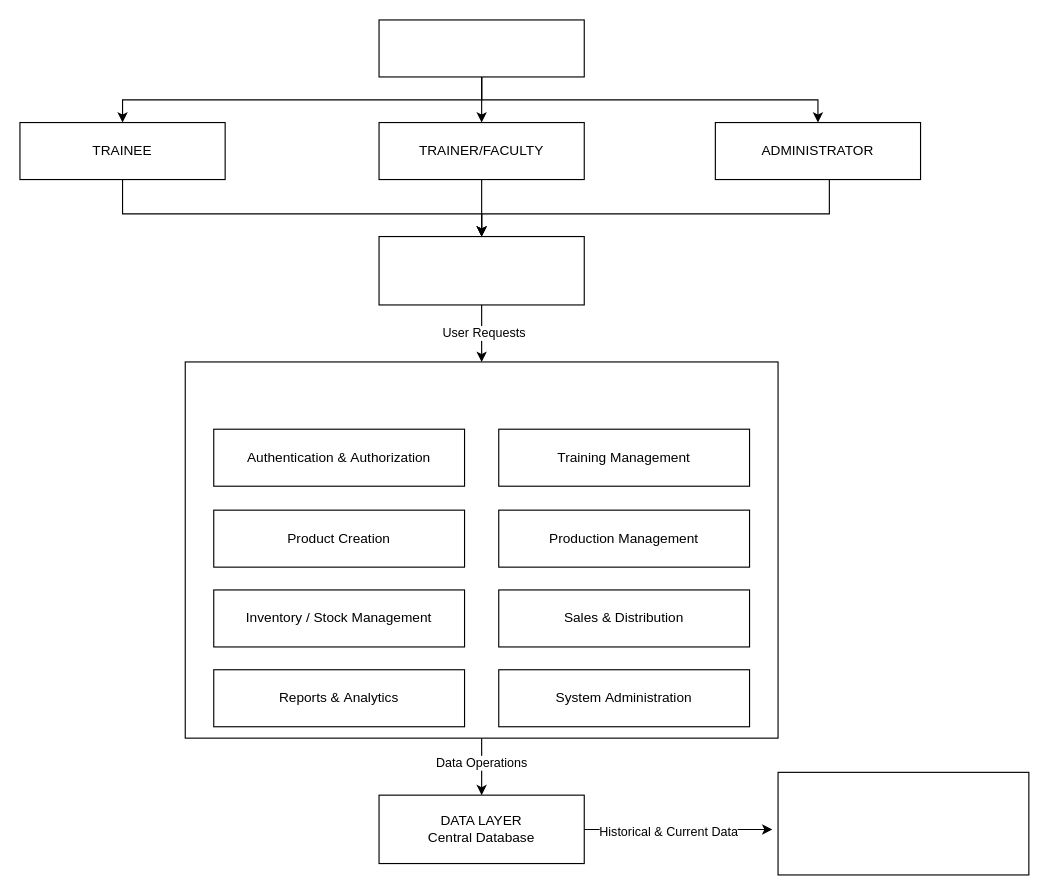
Image size: 1049x895. Some labels were removed from this diagram. Here are the shapes that lost their labels. From the top down, the box of each, then its label:
(378, 19, 584, 77): KV-TMS USERS
(378, 235, 584, 305): PRESENTATION LAYER Web Interface / User Dashboards
(184, 361, 778, 738): APPLICATION / BUSINESS LOGIC LAYER
(777, 771, 1029, 875): AI-BASED FORECASTING Demand Prediction ↓ Recommended Production Quantity
